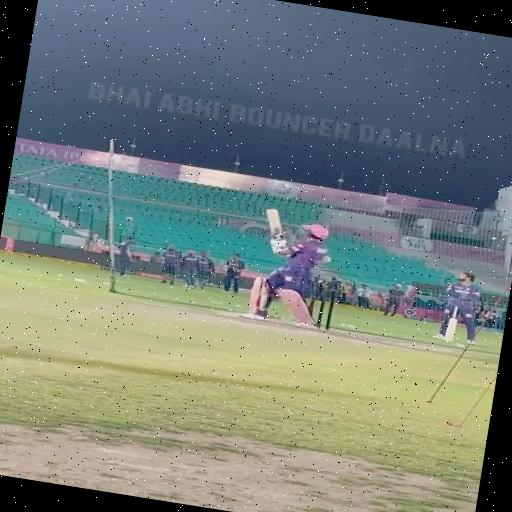Cricket bat: (266, 208, 281, 235)
